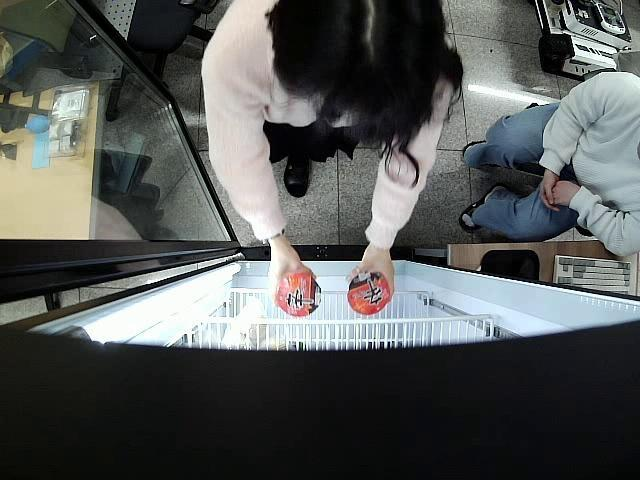02_shinRamen_S: (346, 269, 392, 316), (276, 272, 322, 318)
